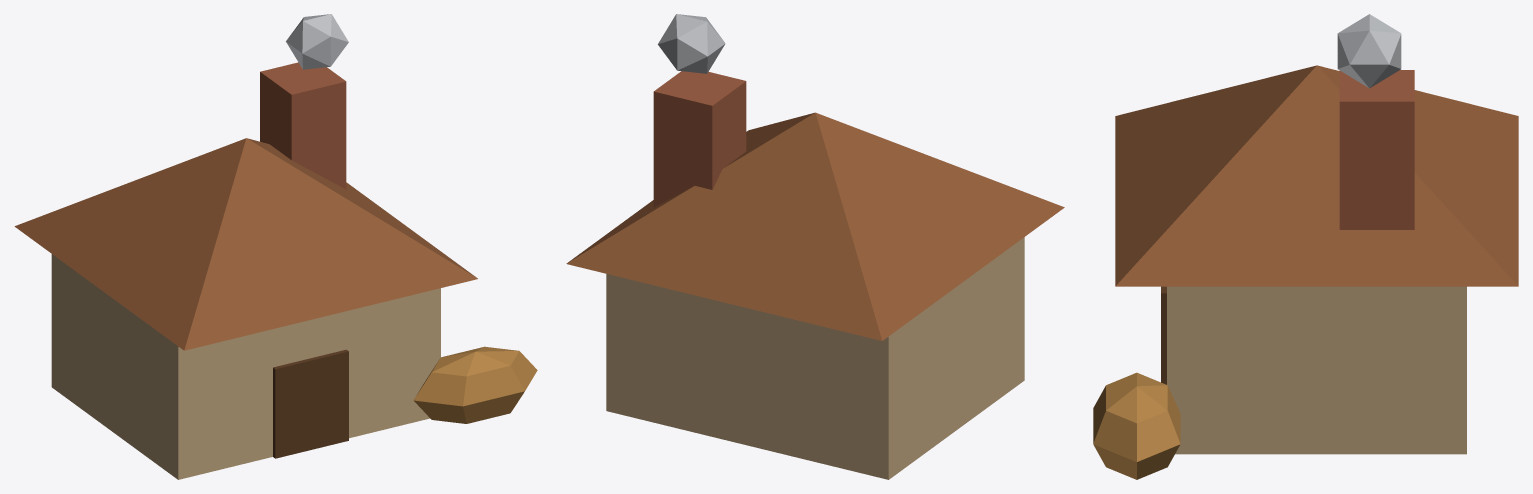
The model's file is bakery.glb.
The picture shows the model from 3 angles, left to right: view 1: azimuth 30°, elevation 25°; view 2: azimuth 150°, elevation 25°; view 3: azimuth 270°, elevation 25°; orthographic projection. The views are drawn at different scales.
Visible parts, largest first — view 1: bakery; view 2: bakery; view 3: bakery.
Boxes of the visible parts, x1,y1,x2,y2 form: bakery: (14, 14, 537, 479); bakery: (566, 14, 1064, 479); bakery: (1093, 14, 1518, 479).
Bounding box in the file's own units: 0.3311 × 0.3013 × 0.2835.
